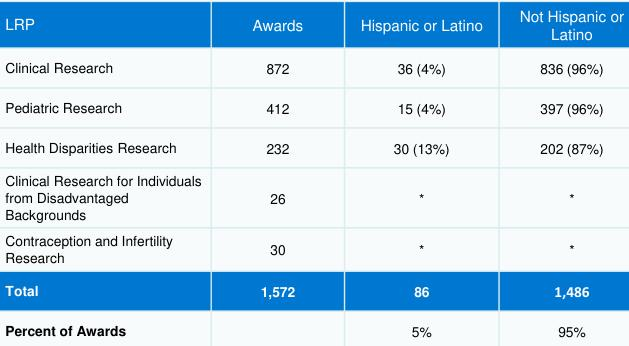table: (4, 4, 623, 339)
table column: (4, 4, 226, 339), (331, 4, 500, 339), (500, 4, 623, 339), (226, 4, 331, 339)
table column header: (4, 4, 623, 50)
table row: (4, 163, 623, 226), (4, 226, 623, 273), (4, 4, 623, 50), (4, 87, 623, 127), (4, 50, 623, 87), (4, 273, 623, 310), (4, 127, 623, 163), (4, 310, 623, 339)
